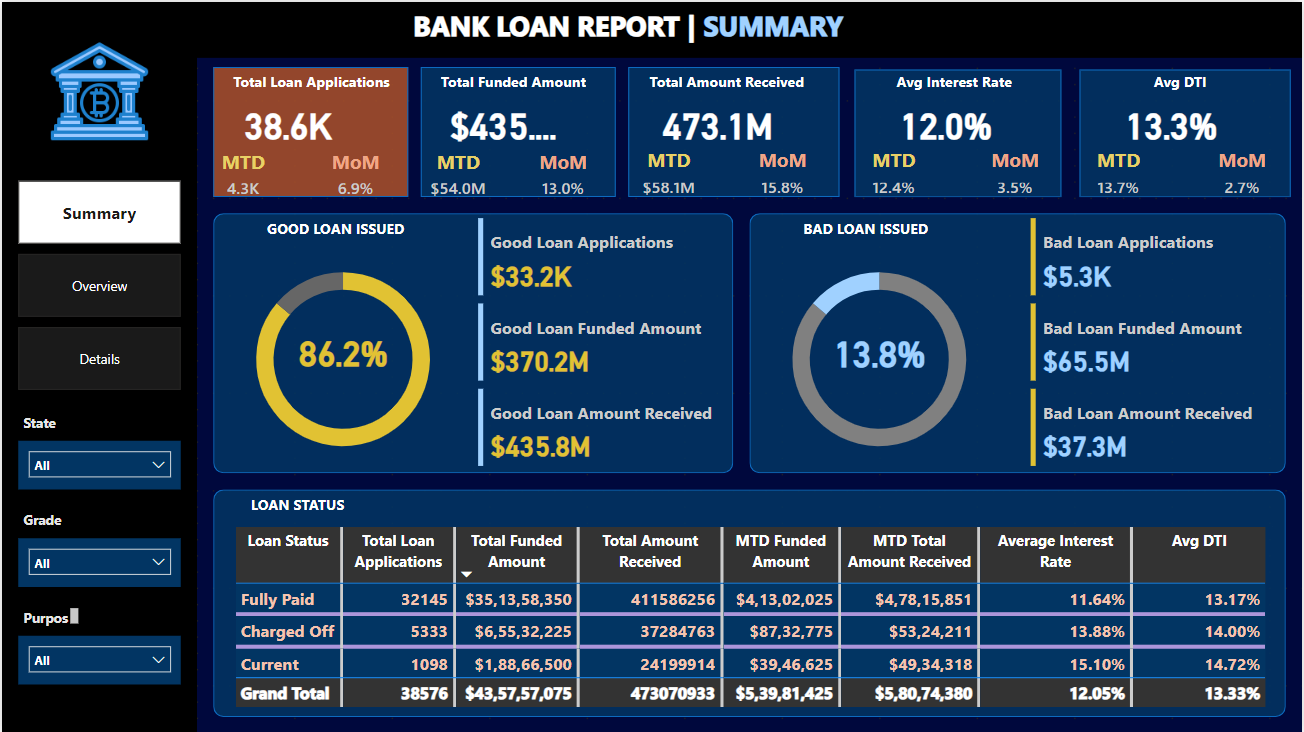

This screenshot's page, from the dashboard's own definition file:
{"tool":"powerbi","page":{"name":"Summary","canvas":[1280,720],"ordinal":0},"visuals":[{"type":"shape","box":[0,48,192,672],"z":0},{"type":"shape","box":[0,0,1280,55],"z":1000},{"type":"textbox","box":[400,0,448,48],"z":2000},{"type":"shape","box":[208,64,192,128],"z":2000,"group":"g4"},{"type":"shape","box":[412,64,192,128],"z":2000,"group":"g2"},{"type":"shape","box":[616,64,208,128],"z":2000,"group":"g5"},{"type":"shape","box":[840.3,66,203.7,126],"z":2000,"group":"g6"},{"type":"shape","box":[1060.4,66,208,126],"z":2000,"group":"g7"},{"type":"group","id":"g1","title":"Group 1","box":[208,64,192,128],"z":3000},{"type":"card","fields":{"Values":["financial_loan.Total Amount Received"]},"box":[632,95.5,144,47.2],"z":4000,"group":"g5"},{"type":"card","fields":{"Values":["financial_loan.Average Interest Rate"]},"box":[853,95.5,152.8,47.2],"z":4000,"group":"g6"},{"type":"card","fields":{"Values":["financial_loan.Avg DTI"]},"box":[1073.3,95.5,156,47.2],"z":4000,"group":"g7"},{"type":"card","fields":{"Values":["financial_loan.Total Loan Applications"]},"box":[222.8,96,118.2,48],"z":4000,"group":"g4"},{"type":"card","fields":{"Values":["financial_loan.Total Funded Amount"]},"box":[426.8,96,132.9,48],"z":4000,"group":"g2"},{"type":"shape","box":[736,208,528,256],"z":4000},{"type":"textbox","box":[222.8,64,177.2,32],"z":5000,"group":"g4"},{"type":"textbox","box":[426.8,64,177.2,32],"z":5000,"group":"g2"},{"type":"textbox","box":[632,64,192,31.5],"z":5000,"group":"g5"},{"type":"textbox","box":[836,64,203.7,32],"z":5000,"group":"g6"},{"type":"textbox","box":[1056,64,208,32],"z":5000,"group":"g7"},{"type":"donutChart","fields":{"Category":["financial_loan.Good VS Bad Loan"],"Y":["financial_loan.Total Loan Applications"]},"box":[736,240,256,224],"z":5000},{"type":"group","id":"g2","title":"Group 4","box":[412,64,192,128],"z":6000},{"type":"card","title":"MTD","fields":{"Values":["financial_loan.MTD Total Amount Received"]},"box":[616,142.7,80,47.2],"z":6000,"group":"g5"},{"type":"card","title":"MTD","fields":{"Values":["financial_loan.MTD Avg Interest Rate"]},"box":[836,142.7,84.9,47.2],"z":6000,"group":"g6"},{"type":"card","title":"MTD","fields":{"Values":["financial_loan.MTD Avg DTI"]},"box":[1056,142.7,86.7,47.2],"z":6000,"group":"g7"},{"type":"card","title":"MTD","fields":{"Values":["financial_loan.MTD Loan Applications"]},"box":[208,144,59.1,48],"z":6000,"group":"g4"},{"type":"card","title":"MTD","fields":{"Values":["financial_loan.MTD Funded Amount"]},"box":[412,144,73.8,48],"z":6000,"group":"g2"},{"type":"card","title":"MoM","fields":{"Values":["financial_loan.MoM Total Amount Received"]},"box":[728,142.7,80,47.2],"z":7000,"group":"g5"},{"type":"card","title":"MoM","fields":{"Values":["financial_loan.MoM Avg Interest Rate"]},"box":[954.8,142.7,84.9,47.2],"z":7000,"group":"g6"},{"type":"card","title":"MoM","fields":{"Values":["financial_loan.MoM Avg DTI"]},"box":[1177.3,142.7,86.7,47.2],"z":7000,"group":"g7"},{"type":"card","title":"MoM","fields":{"Values":["financial_loan.MoM Loan Applications"]},"box":[311.4,144,73.8,48],"z":7000,"group":"g4"},{"type":"card","title":"MoM","fields":{"Values":["financial_loan.MoM Funded Amount"]},"box":[515.4,144,73.8,48],"z":7000,"group":"g2"},{"type":"card","fields":{"Values":["financial_loan.Bad Loan %"]},"box":[800,320,128,48],"z":7000},{"type":"group","id":"g3","title":"Group 2","box":[208,64,192,128],"z":7002,"group":"g1"},{"type":"group","id":"g4","title":"Group 3","box":[208,64,192,128],"z":7002,"group":"g3"},{"type":"shape","box":[208,208,512,256],"z":8000},{"type":"donutChart","fields":{"Category":["financial_loan.Good VS Bad Loan"],"Y":["financial_loan.Total Loan Applications"]},"box":[208,240,256,224],"z":9000},{"type":"card","fields":{"Values":["financial_loan.Good Loan %"]},"box":[272,320,128,48],"z":10000},{"type":"textbox","box":[256,208,176,32],"z":11000},{"type":"group","id":"g5","title":"Group 4","box":[616,64,208,128],"z":12000},{"type":"group","id":"g6","title":"Group 4","box":[836,64,208,128],"z":13000},{"type":"group","id":"g7","title":"Group 4","box":[1056,64,208,128],"z":14000},{"type":"cardVisual","fields":{"Data":["financial_loan.Good Loan Applications","financial_loan.Good Loan Funded Amount","financial_loan.Good Loan Amount Received"]},"box":[464,208,256,256],"z":15000},{"type":"textbox","box":[784,208,176,32],"z":16000},{"type":"cardVisual","fields":{"Data":["financial_loan.Bad Loan Applications","financial_loan.Bad Loan Funded Amount","financial_loan.Bad Loan Amount Received"]},"box":[1008,208,256,256],"z":17000},{"type":"shape","box":[208,480,1056,224],"z":18000},{"type":"tableEx","fields":{"Values":["financial_loan.loan_status","financial_loan.Total Loan Applications","financial_loan.Total Funded Amount","financial_loan.Total Amount Received","financial_loan.MTD Funded Amount","financial_loan.MTD Total Amount Received","financial_loan.Average Interest Rate","financial_loan.Avg DTI"]},"box":[224,512,1040,192],"z":19000},{"type":"textbox","box":[240,480,176,32],"z":20000},{"type":"slicer","fields":{"Values":["financial_loan.address_state"]},"box":[16,432,160,48],"z":21000},{"type":"textbox","box":[16,400,64,32],"z":22000},{"type":"slicer","fields":{"Values":["financial_loan.grade"]},"box":[16,528,160,48],"z":23000},{"type":"slicer","fields":{"Values":["financial_loan.purpose"]},"box":[16,624,160,48],"z":24000},{"type":"textbox","box":[16,496,64,32],"z":25000},{"type":"textbox","box":[16,592,64,32],"z":26000},{"type":"image","box":[32,32,128,112],"z":26001},{"type":"pageNavigator","box":[16,176,160,208],"z":26002}]}

Visuals, with their boxes in screenshot pixels (x1, y1, x2, y2), scaled from the page's 1280x720 canvas onto the 1304x732 screenshot:
shape: rect(0, 49, 196, 731)
shape: rect(0, 0, 1303, 56)
textbox: rect(408, 0, 864, 49)
shape: rect(212, 65, 408, 195)
shape: rect(420, 65, 615, 195)
shape: rect(628, 65, 839, 195)
shape: rect(856, 67, 1064, 195)
shape: rect(1080, 67, 1292, 195)
"Group 1" group: rect(212, 65, 408, 195)
card - financial_loan.Total Amount Received: rect(644, 97, 791, 145)
card - financial_loan.Average Interest Rate: rect(869, 97, 1025, 145)
card - financial_loan.Avg DTI: rect(1093, 97, 1252, 145)
card - financial_loan.Total Loan Applications: rect(227, 98, 347, 146)
card - financial_loan.Total Funded Amount: rect(435, 98, 570, 146)
shape: rect(750, 211, 1288, 472)
textbox: rect(227, 65, 408, 98)
textbox: rect(435, 65, 615, 98)
textbox: rect(644, 65, 839, 97)
textbox: rect(852, 65, 1059, 98)
textbox: rect(1076, 65, 1288, 98)
donutChart - financial_loan.Good VS Bad Loan x financial_loan.Total Loan Applications: rect(750, 244, 1011, 472)
"Group 4" group: rect(420, 65, 615, 195)
"MTD" card: rect(628, 145, 709, 193)
"MTD" card: rect(852, 145, 938, 193)
"MTD" card: rect(1076, 145, 1164, 193)
"MTD" card: rect(212, 146, 272, 195)
"MTD" card: rect(420, 146, 495, 195)
"MoM" card: rect(742, 145, 823, 193)
"MoM" card: rect(973, 145, 1059, 193)
"MoM" card: rect(1199, 145, 1288, 193)
"MoM" card: rect(317, 146, 392, 195)
"MoM" card: rect(525, 146, 600, 195)
card - financial_loan.Bad Loan %: rect(815, 325, 945, 374)
"Group 2" group: rect(212, 65, 408, 195)
"Group 3" group: rect(212, 65, 408, 195)
shape: rect(212, 211, 734, 472)
donutChart - financial_loan.Good VS Bad Loan x financial_loan.Total Loan Applications: rect(212, 244, 473, 472)
card - financial_loan.Good Loan %: rect(277, 325, 408, 374)
textbox: rect(261, 211, 440, 244)
"Group 4" group: rect(628, 65, 839, 195)
"Group 4" group: rect(852, 65, 1064, 195)
"Group 4" group: rect(1076, 65, 1288, 195)
cardVisual - financial_loan.Good Loan Applications x financial_loan.Good Loan Funded Amount: rect(473, 211, 734, 472)
textbox: rect(799, 211, 978, 244)
cardVisual - financial_loan.Bad Loan Applications x financial_loan.Bad Loan Funded Amount: rect(1027, 211, 1288, 472)
shape: rect(212, 488, 1288, 716)
tableEx - financial_loan.loan_status x financial_loan.Total Loan Applications: rect(228, 521, 1288, 716)
textbox: rect(244, 488, 424, 521)
slicer - financial_loan.address_state: rect(16, 439, 179, 488)
textbox: rect(16, 407, 82, 439)
slicer - financial_loan.grade: rect(16, 537, 179, 586)
slicer - financial_loan.purpose: rect(16, 634, 179, 683)
textbox: rect(16, 504, 82, 537)
textbox: rect(16, 602, 82, 634)
image: rect(33, 33, 163, 146)
pageNavigator: rect(16, 179, 179, 390)
